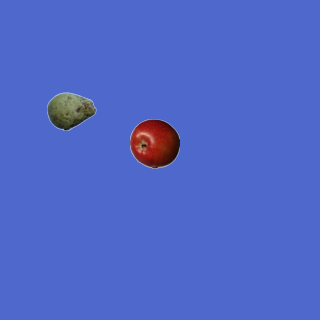Apple Braeburn: (129, 118, 179, 168)
Pear Stone: (46, 86, 96, 136)
